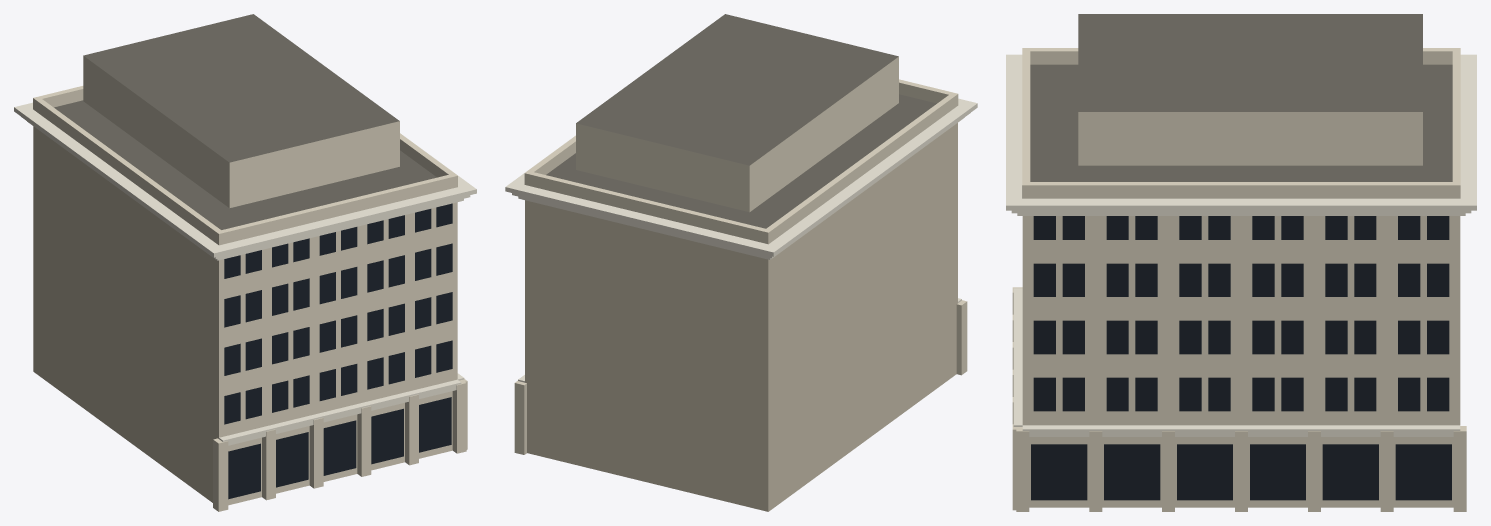
File: hotel-frederica.glb
3 views of the same model, side by side, from view 1: azimuth 30°, elevation 25°; view 2: azimuth 150°, elevation 25°; view 3: azimuth 270°, elevation 25° (orthographic). The views are drawn at different scales.
Parts seen in each view (by area): view 1: hotel_brick, hotel_brick2, hotel_roof, hotel_glass, hotel_stone; view 2: hotel_brick2, hotel_roof, hotel_brick, hotel_stone; view 3: hotel_brick, hotel_glass, hotel_roof, hotel_stone.
Boxes of the visible parts, x1,y1,x2,y2 form: hotel_brick: (33,56,467,511); hotel_brick2: (33,126,218,502); hotel_roof: (54,14,436,229); hotel_glass: (224,203,452,499); hotel_stone: (14,102,476,445); hotel_brick2: (525,123,957,511); hotel_roof: (546,14,936,228); hotel_brick: (514,57,967,454); hotel_stone: (505,98,977,382); hotel_brick: (1012,48,1466,511); hotel_glass: (1031,216,1451,500); hotel_roof: (1030,14,1452,181); hotel_stone: (1006,54,1476,436).
Bounding box in the file's own units: 19.3 × 22.4 × 25.4.
